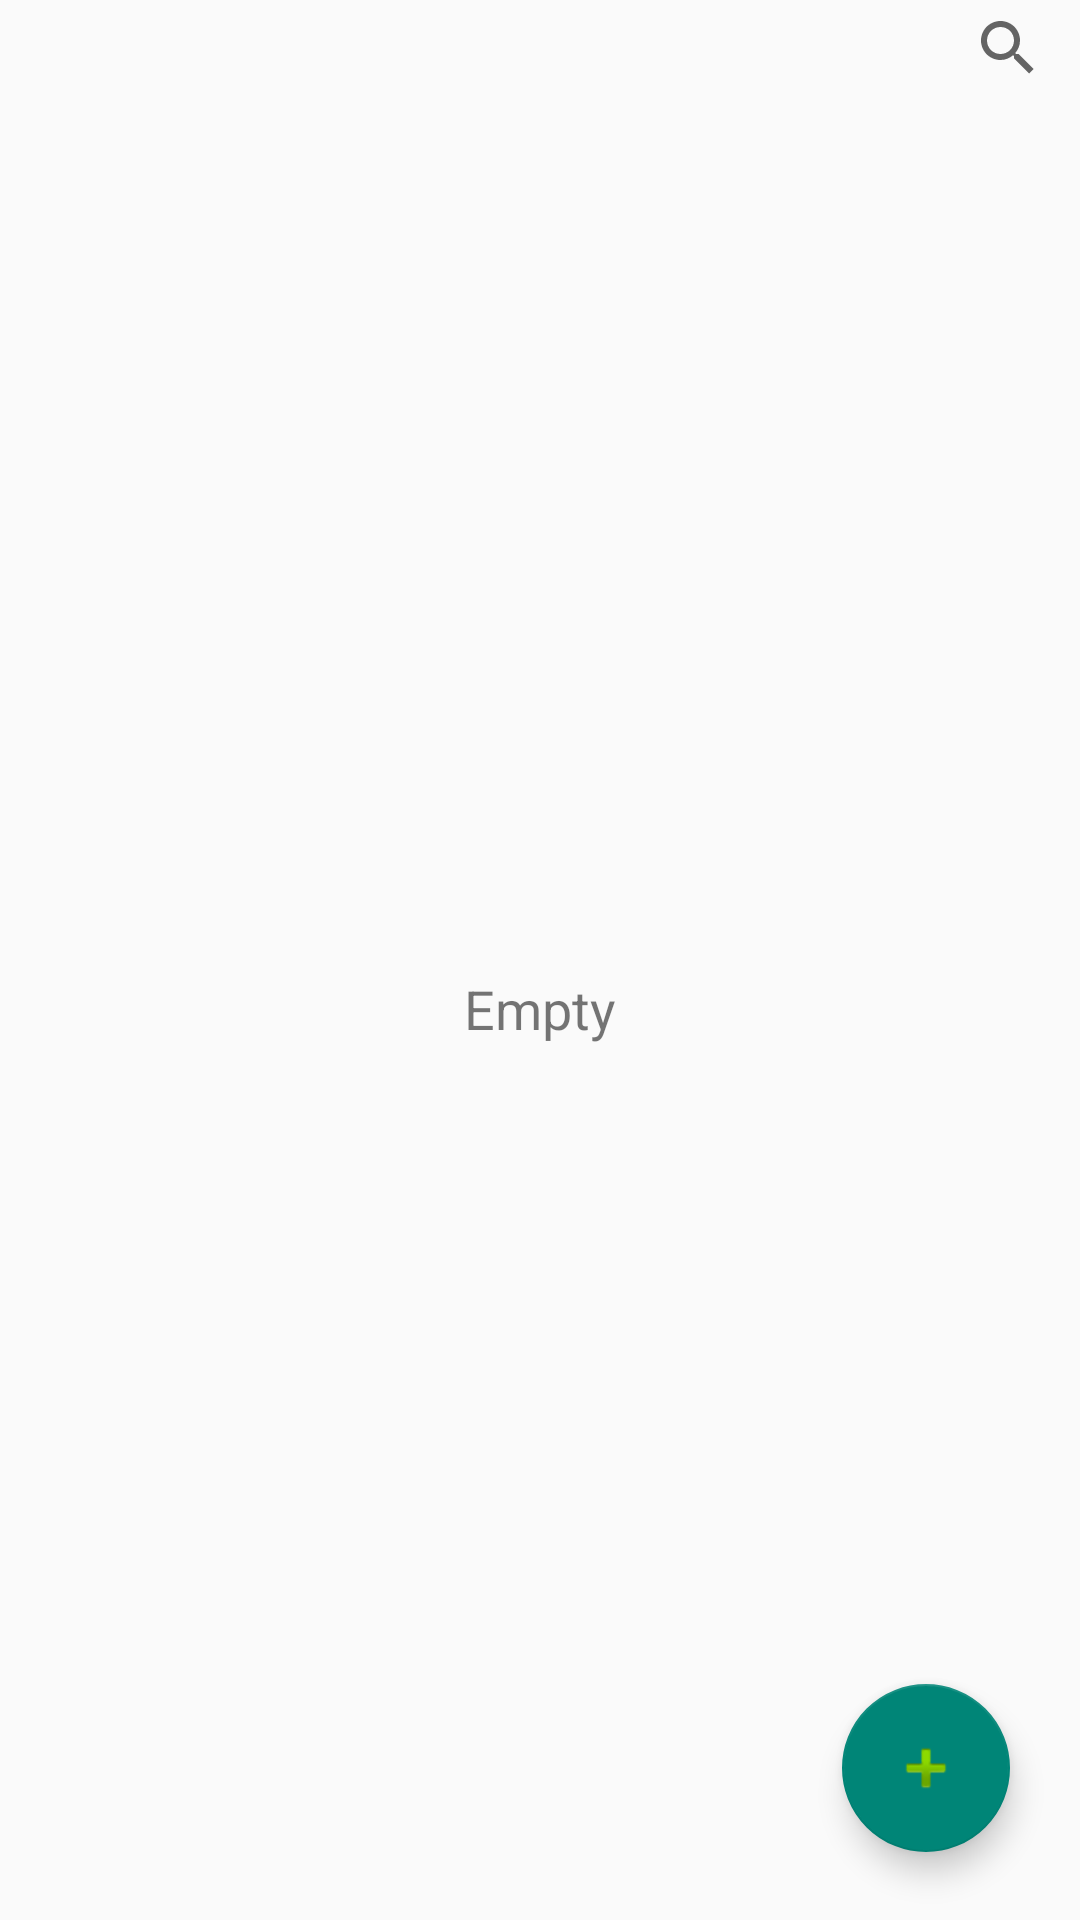

Named icons in this screenshot (1080×1920) and their bounding boxes, (x1, y1, x2, y2):
add: (842, 1684, 1010, 1852)
